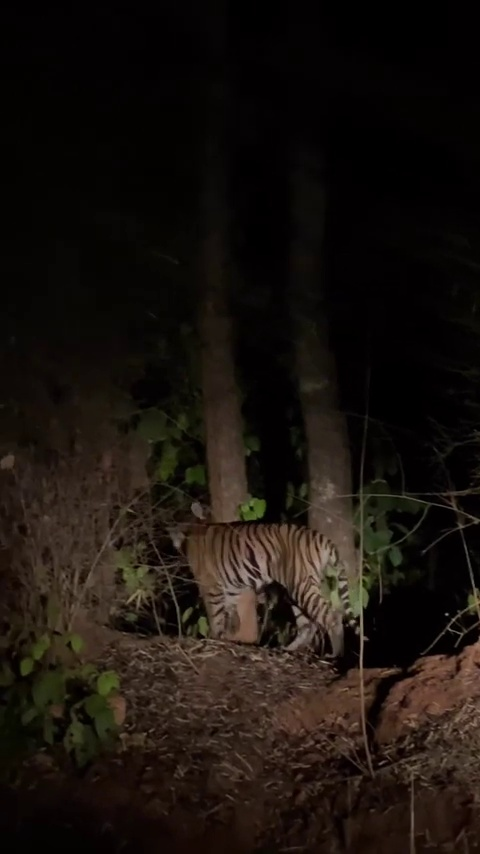Tiger: (162, 512, 371, 660)
